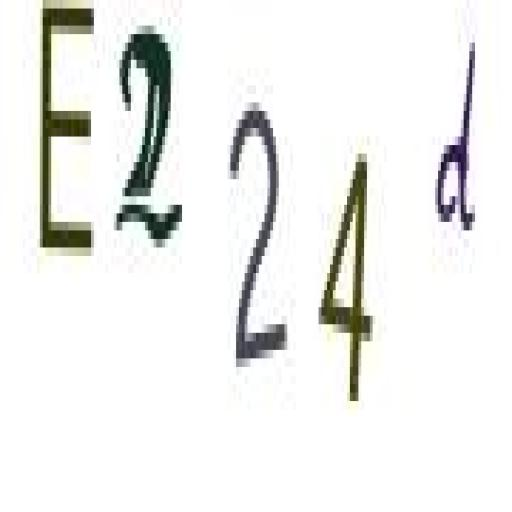2: (223, 88, 295, 366), (118, 20, 187, 259)
4: (316, 130, 380, 417)
E: (36, 0, 98, 272)
d: (431, 29, 480, 257)
